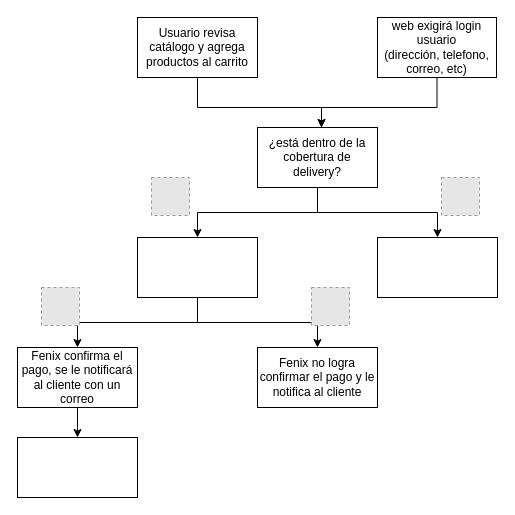
Image size: 515x515. Some labels were removed from this diagram. Grey dashed boxes stand in for pictures. Each missing label, with the box of its shape:
Cliente hace el pedido y Fenix espera confirmación de pago: (136, 236, 258, 298)
Delivery se lleva a cabo. Cierre de pedido: (16, 436, 138, 498)
Se le notifica al cliente que el servicio no está disponible en su área: (376, 236, 498, 298)
